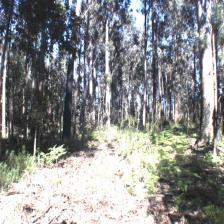trunktrack_idkeyframe: (62, 90, 72, 140)
